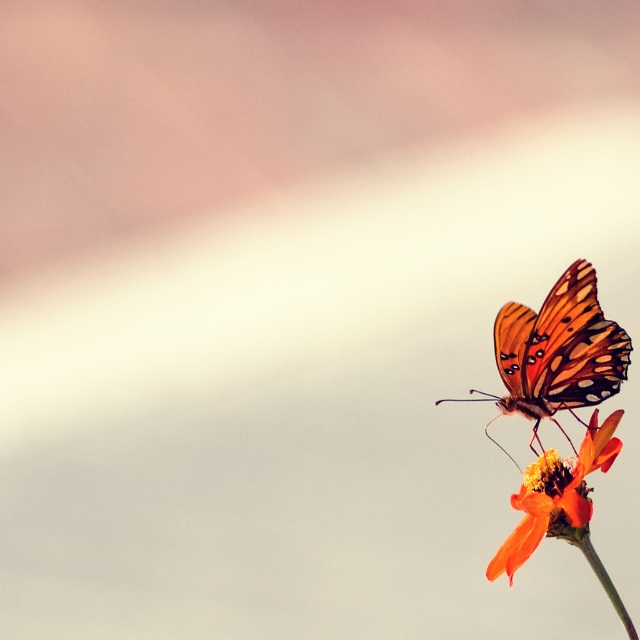Butterfly: (436, 257, 636, 474)
